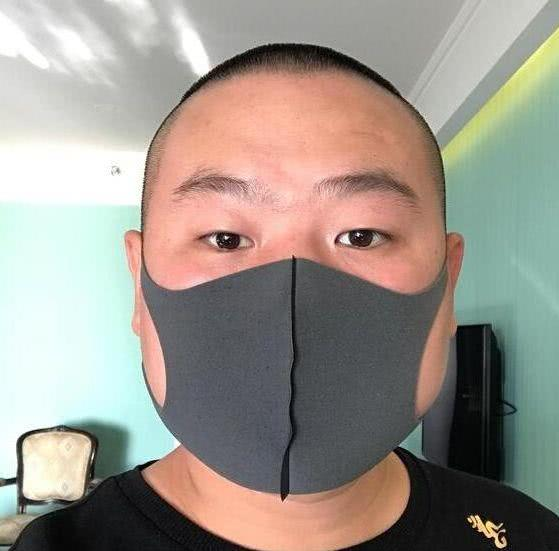mask: (128, 225, 449, 492)
